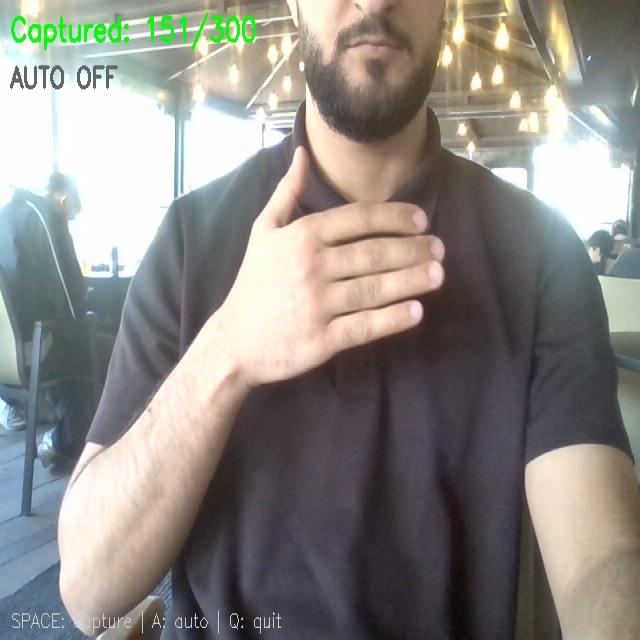Hand: (215, 148, 443, 386)
